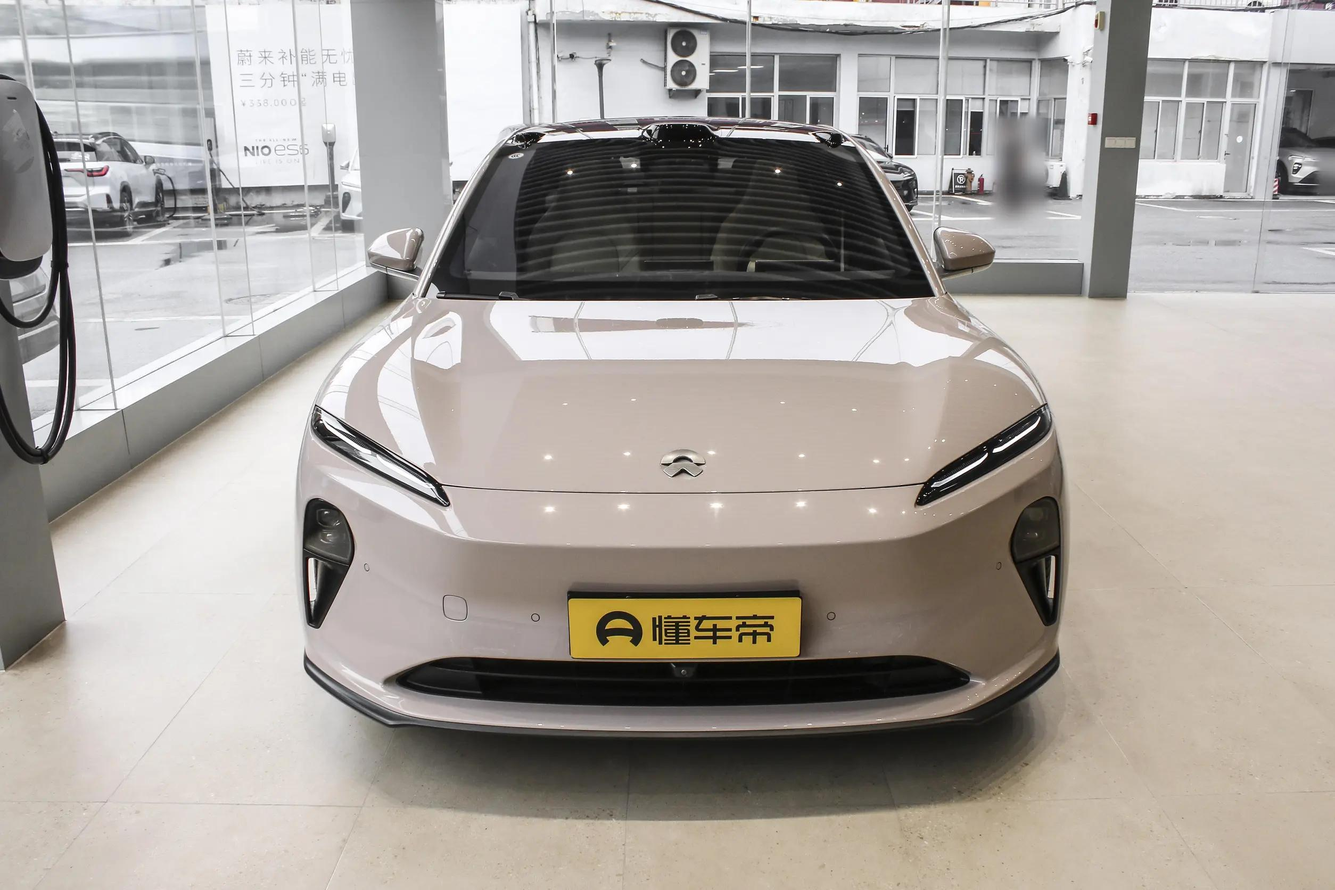NIO: (660, 448, 705, 478)
